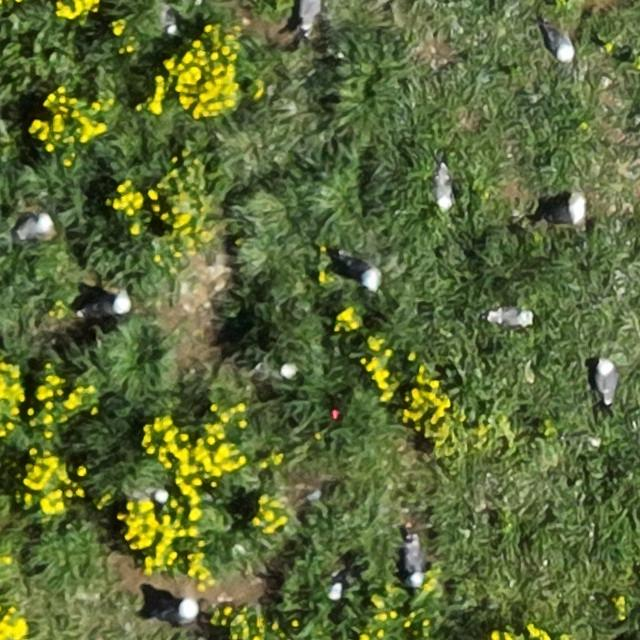umineko: (82, 294, 127, 316), (344, 257, 379, 285), (156, 602, 197, 624), (404, 538, 424, 583), (547, 30, 573, 63), (595, 360, 616, 400), (546, 200, 583, 222), (490, 306, 532, 325), (434, 168, 452, 210), (16, 216, 50, 238), (299, 2, 321, 30)
